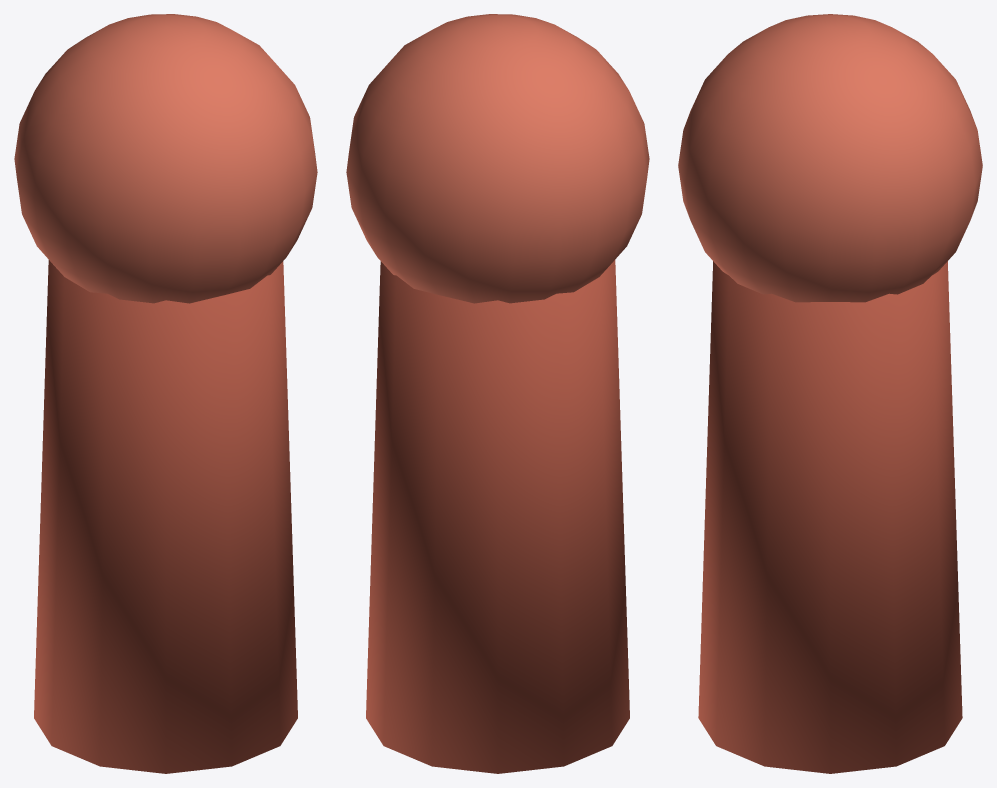
The model's file is fig_upper_arm.glb.
The picture shows the model from 3 angles, left to right: view 1: azimuth 30°, elevation 25°; view 2: azimuth 150°, elevation 25°; view 3: azimuth 270°, elevation 25°; orthographic projection.
Parts seen in each view (by area): view 1: cloth2_sleeve, cloth_shoulder; view 2: cloth2_sleeve, cloth_shoulder; view 3: cloth2_sleeve, cloth_shoulder.
Boxes of the visible parts, bbox=[...] form: cloth2_sleeve: bbox=[34, 260, 297, 773]; cloth_shoulder: bbox=[14, 14, 317, 303]; cloth2_sleeve: bbox=[366, 260, 629, 773]; cloth_shoulder: bbox=[346, 14, 649, 303]; cloth2_sleeve: bbox=[698, 261, 962, 773]; cloth_shoulder: bbox=[678, 14, 982, 302].
Size of the model in its own units: 0.12 by 0.3 by 0.12.
